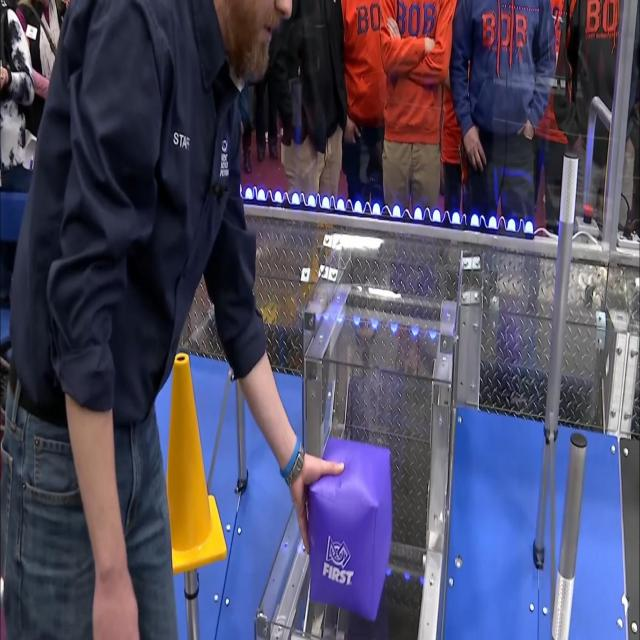frc_cone: (166, 356, 229, 574)
frc_cube: (306, 435, 395, 621)
